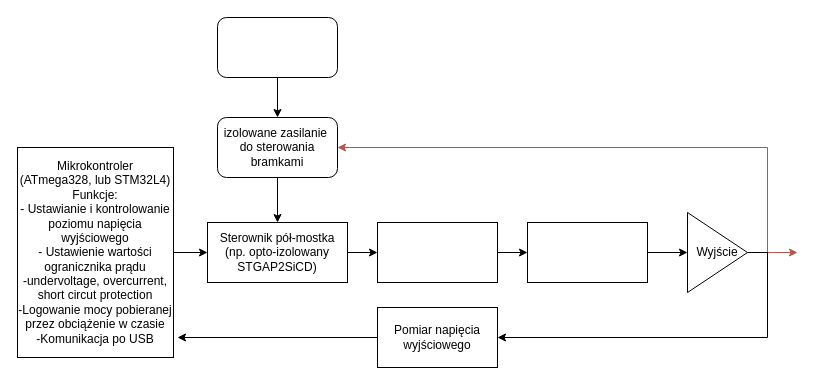
The diagram is 823 pixels wide and 385 high, and some of its shapes have lost their labels. The shapes that lost their labels are listed below. From the top down, each one's centre as x and y in pixels, then its label:
the point at 277,47: Bateria do startu
the point at 437,252: Pół-mostek (IGBT, lub MOSFET)
the point at 587,252: Cewka + Kondensatory filtrujące
